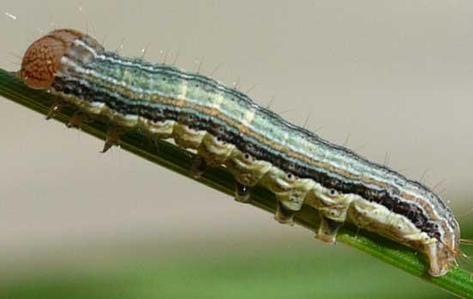caterpillars: (5, 8, 473, 299)
